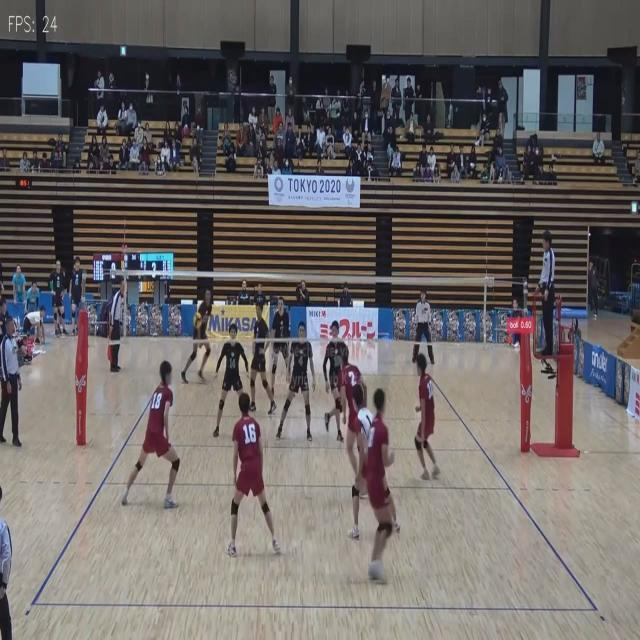volleyball: (193, 312, 202, 328)
